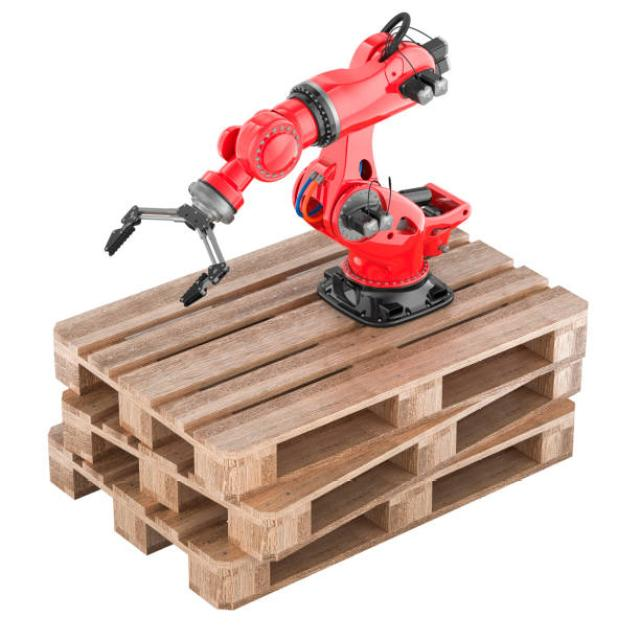Robotic-arm: (96, 8, 474, 325)
